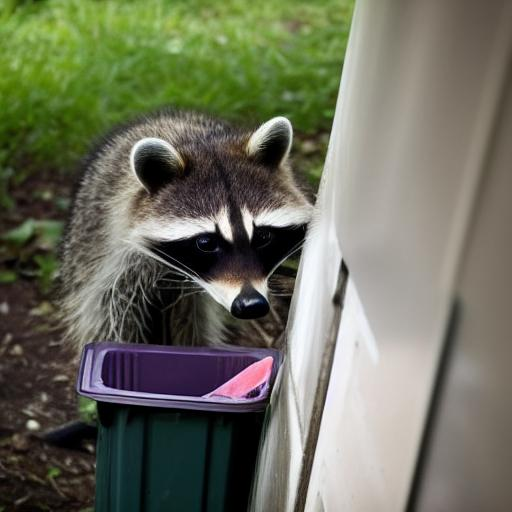raccoon: (33, 97, 323, 347)
